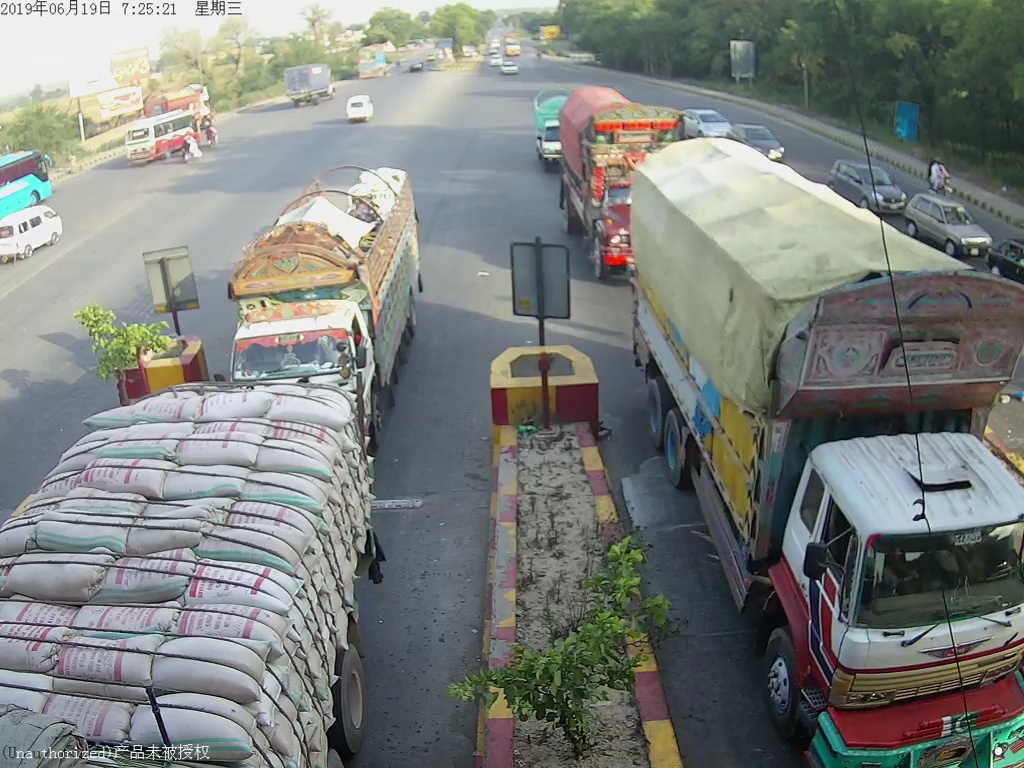Cat-4: (660, 153, 1015, 759), (226, 183, 446, 381)
